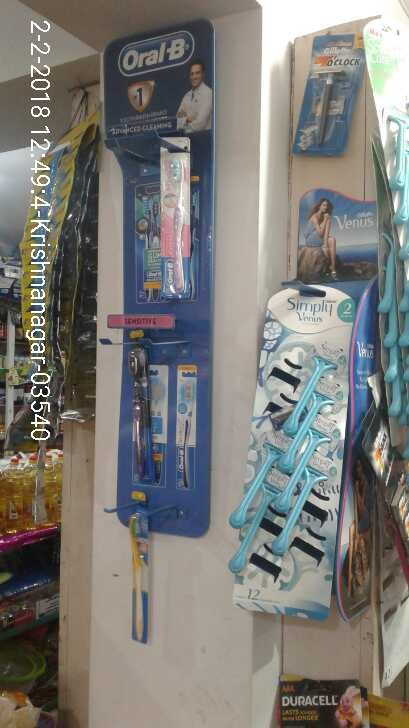oralb: (159, 147, 194, 299)
